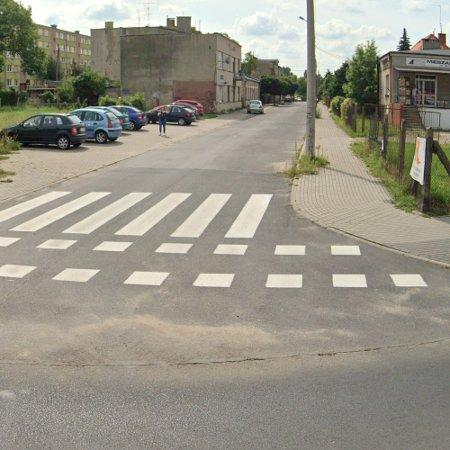crosswalks: (0, 189, 273, 240)
